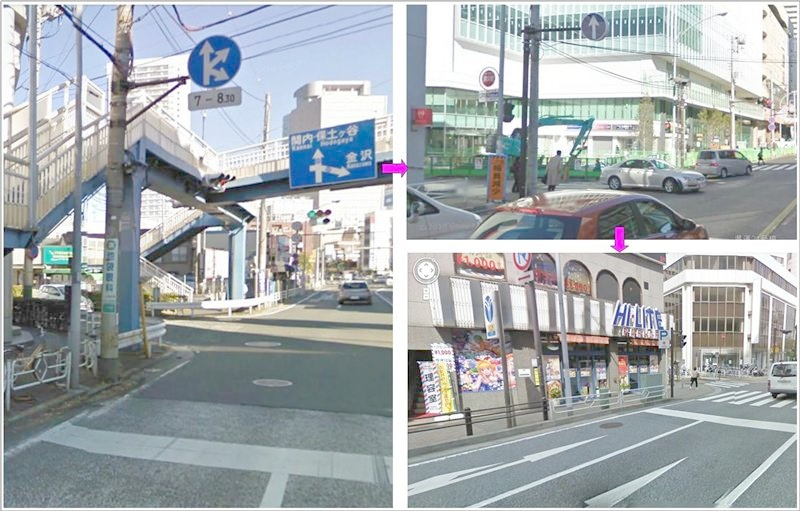Direction_sign: (181, 34, 251, 98), (584, 16, 612, 48)
